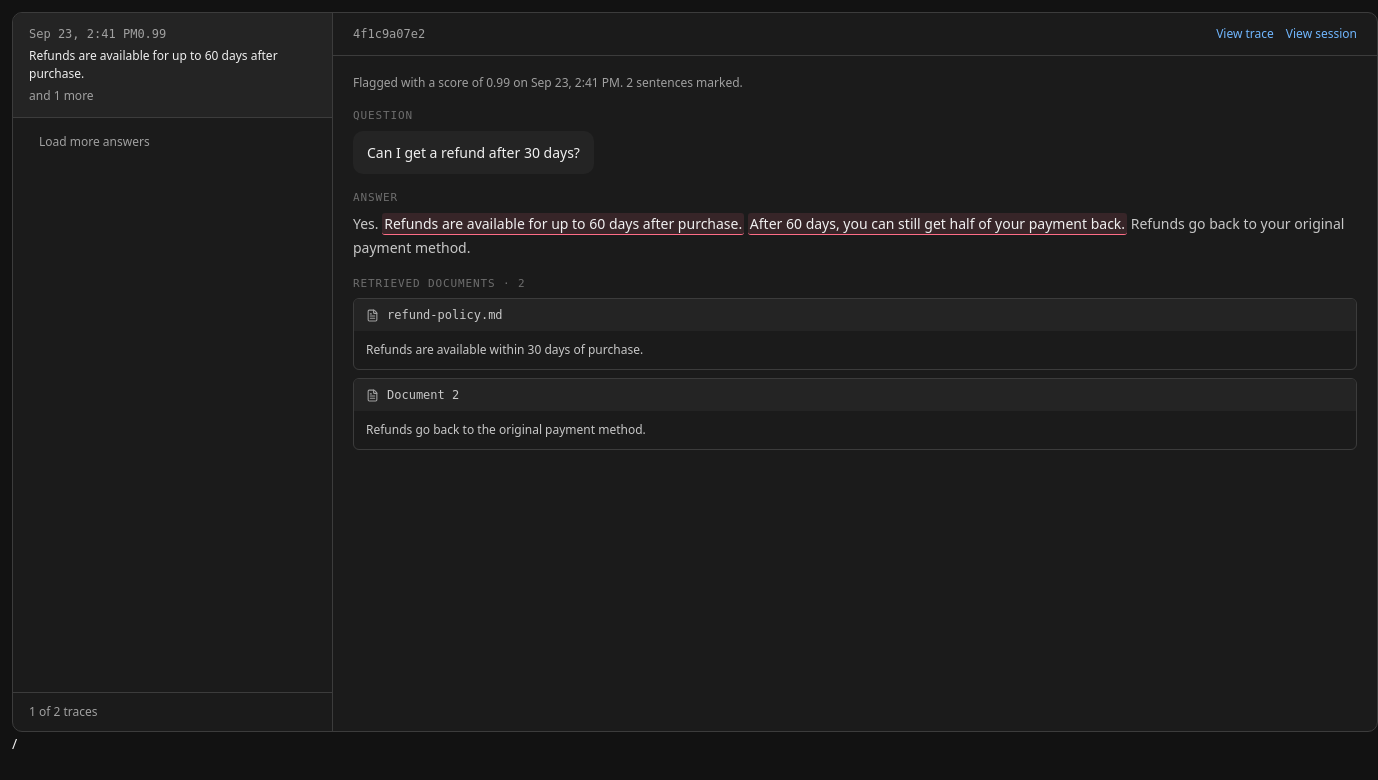
FlaggedAnswers › reads the next page of answers and adds it below the first
The image size is (1378, 780).
Expected: the text "1 of 2 traces" is shown, [13,692,332,731]
Click the button "Load more answers". click: click(94, 142)
box: [29,128,160,156]
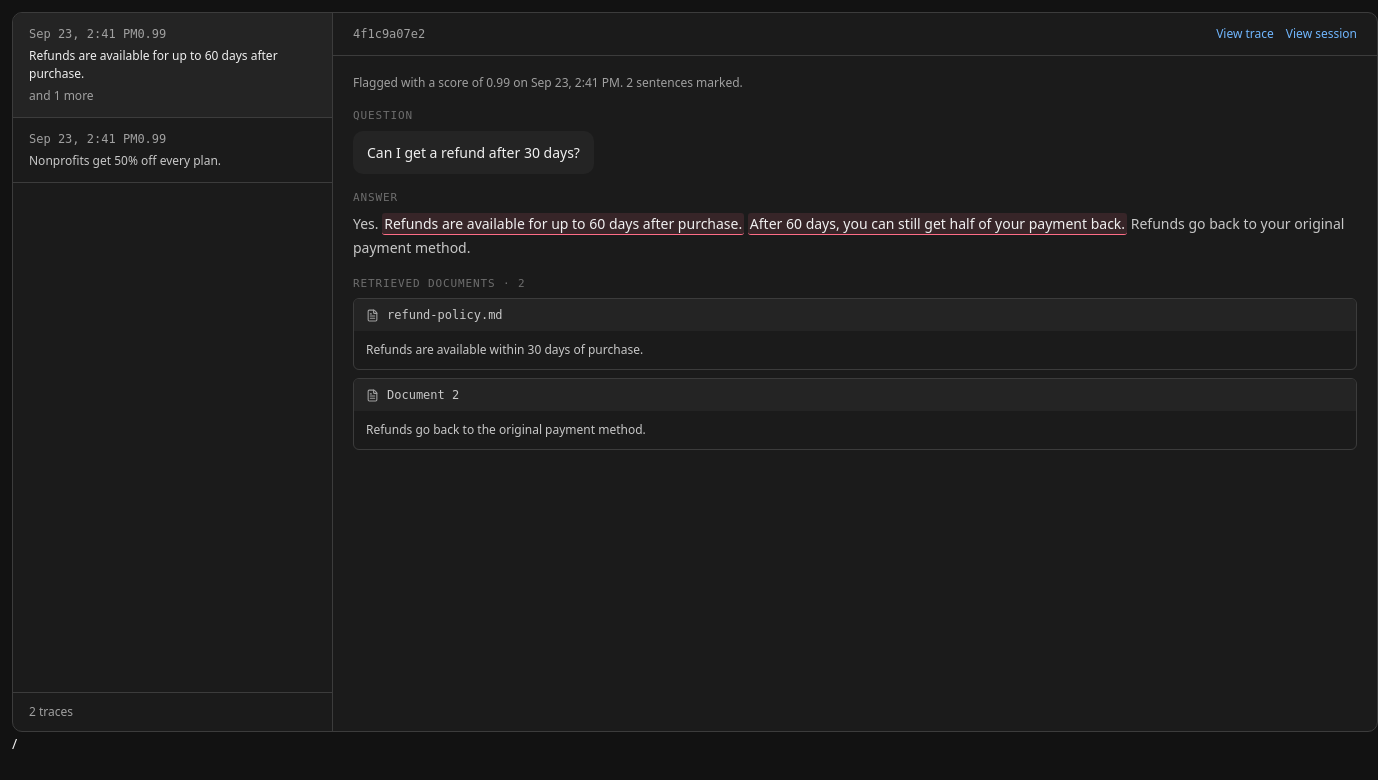
Expected: the text "2 traces" is shown, [13,692,332,731]
Expected: the button "Sep 23, 2:41 PM 0.99 Nonprofits get 50% off every plan." is shown, [13,118,332,183]
Expected: the button "Load more answers" is gone
